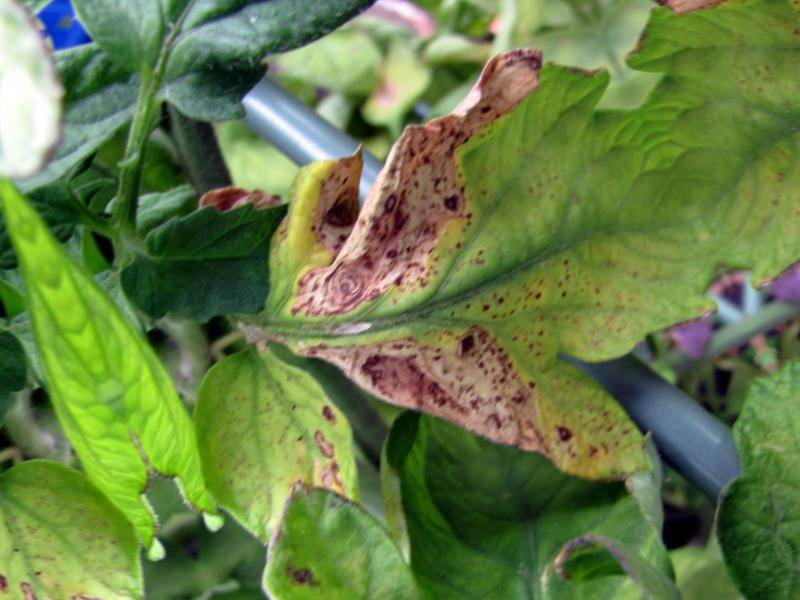Tomato Early blight leaf: (150, 0, 777, 599)
